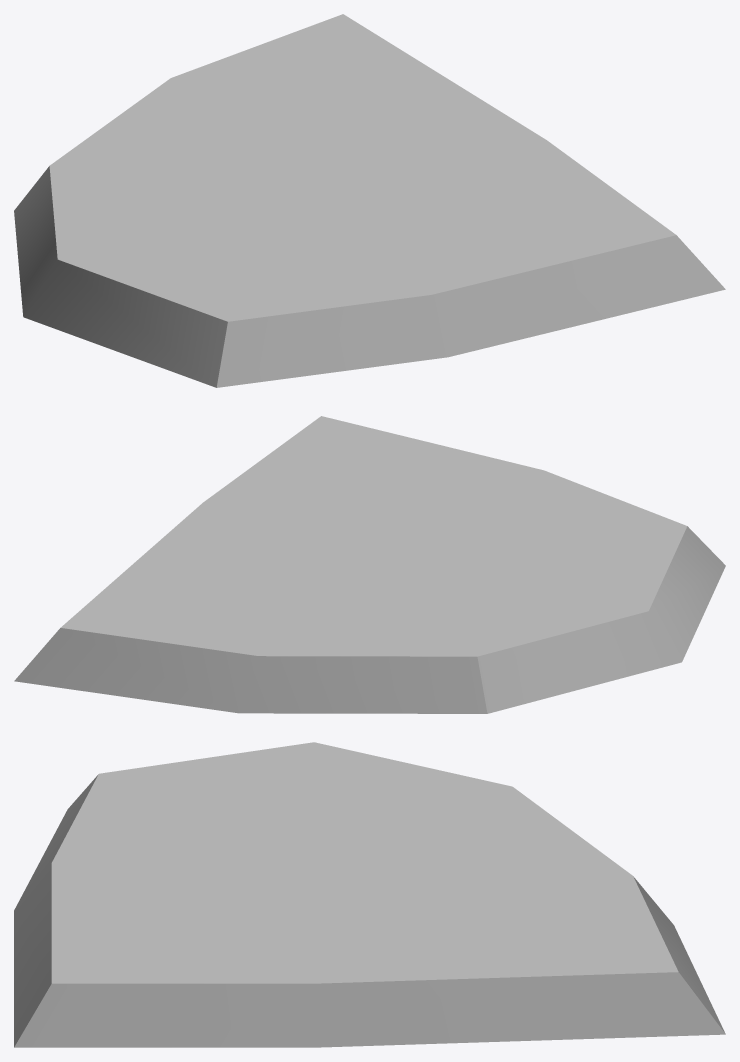
The model's file is stone_02.FBX.
3 renders of one model, top to bottom at view 1: azimuth 30°, elevation 25°; view 2: azimuth 150°, elevation 25°; view 3: azimuth 270°, elevation 25°, orthographic. The views are drawn at different scales.
Parts seen in each view (by area): view 1: stone_02; view 2: stone_02; view 3: stone_02.
Boxes of the visible parts, box(x1,y1,x2,y2) form: stone_02: box(14, 14, 725, 387); stone_02: box(14, 416, 725, 713); stone_02: box(14, 742, 725, 1047).
Bounding box in the file's own units: 0.7 × 0.0582 × 0.7681.
1 material, 1 textured.
